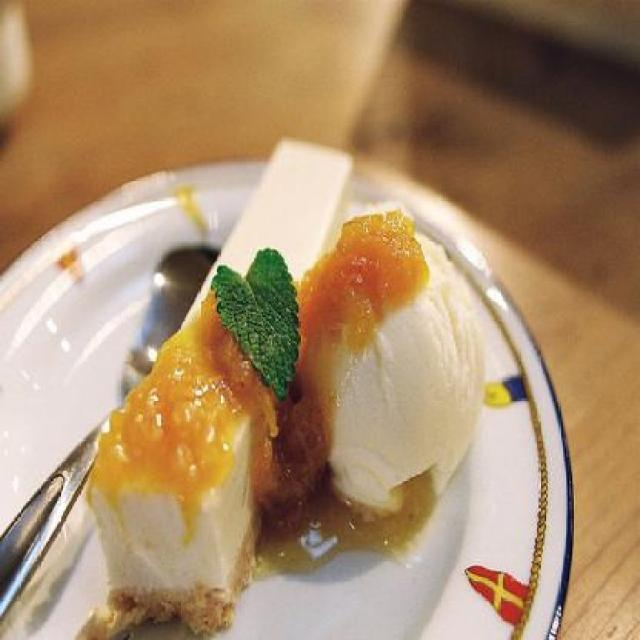Cookie: (326, 221, 492, 530)
Rare cheese cake: (70, 125, 348, 618)
